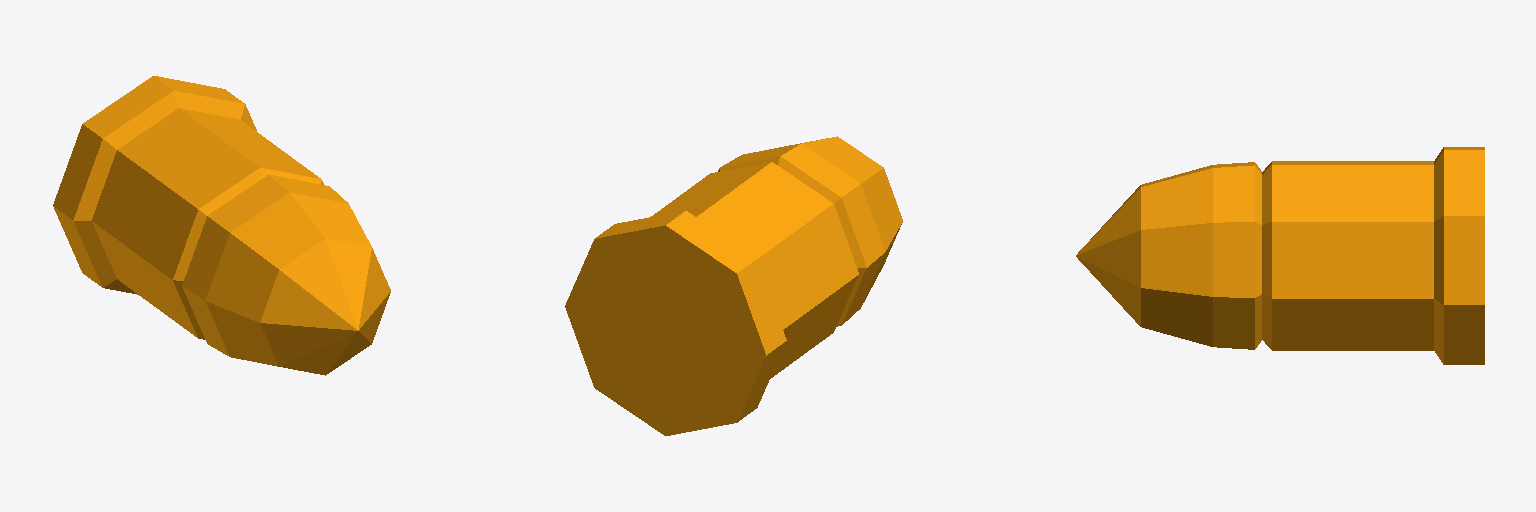
Rendered from shell.obj.
3 renders of one model, left to right at view 1: azimuth 30°, elevation 25°; view 2: azimuth 150°, elevation 25°; view 3: azimuth 270°, elevation 25°, orthographic.
Visible parts, largest first — view 1: Shell; view 2: Shell; view 3: Shell.
Boxes of the visible parts, x1=… form: Shell: x1=53, y1=76, x2=390, y2=375; Shell: x1=565, y1=136, x2=902, y2=435; Shell: x1=1076, y1=147, x2=1484, y2=364.
Size of the model in its own units: 0.2987 by 0.2987 by 0.5253.